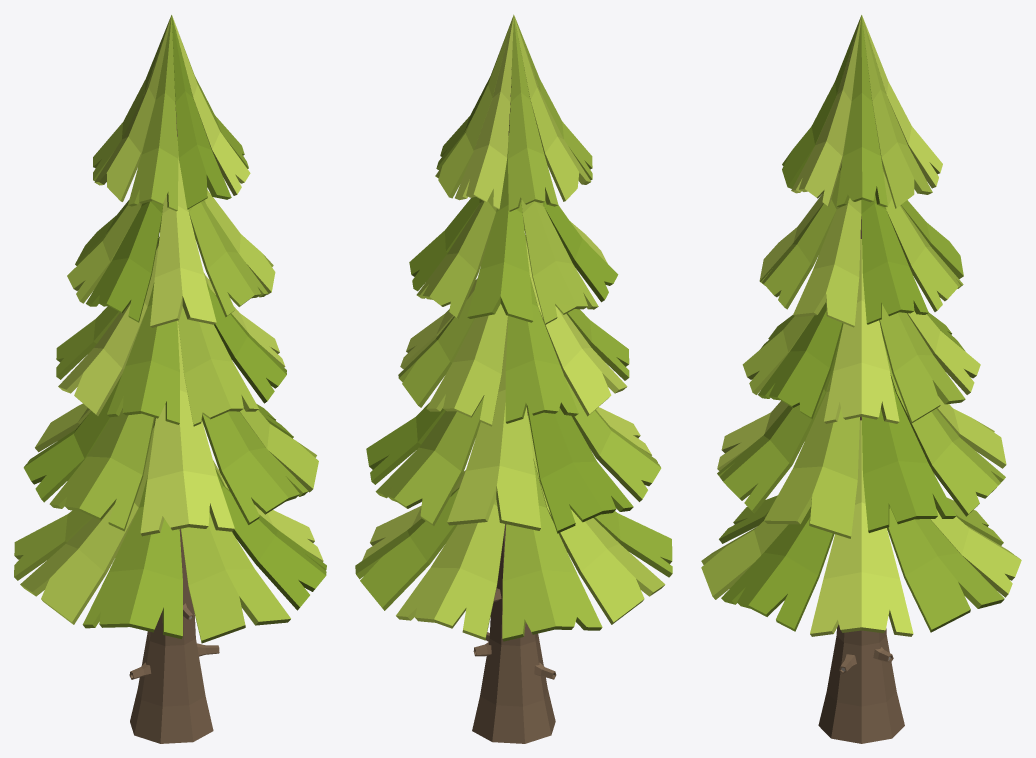
File: NHP_Tree_LP_A1_6m_01.fbx
The picture shows the model from 3 angles, left to right: view 1: azimuth 30°, elevation 25°; view 2: azimuth 150°, elevation 25°; view 3: azimuth 270°, elevation 25°; orthographic projection.
Parts seen in each view (by area): view 1: NHP_Tree_LP_A1_6m_01_LOD0; view 2: NHP_Tree_LP_A1_6m_01_LOD0; view 3: NHP_Tree_LP_A1_6m_01_LOD0.
Boxes of the visible parts, <box> form: NHP_Tree_LP_A1_6m_01_LOD0: <box>14,15,326,743</box>; NHP_Tree_LP_A1_6m_01_LOD0: <box>355,14,672,743</box>; NHP_Tree_LP_A1_6m_01_LOD0: <box>701,15,1021,743</box>.
Size of what is drawn, in the model's own units: 2.52 by 6.3 by 2.57.
